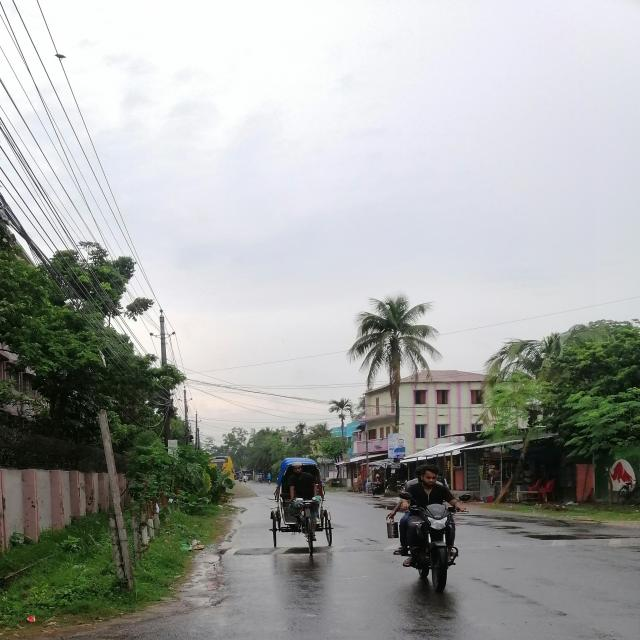Motorbike: (375, 487, 483, 588)
Rickshaw: (275, 456, 333, 564)
